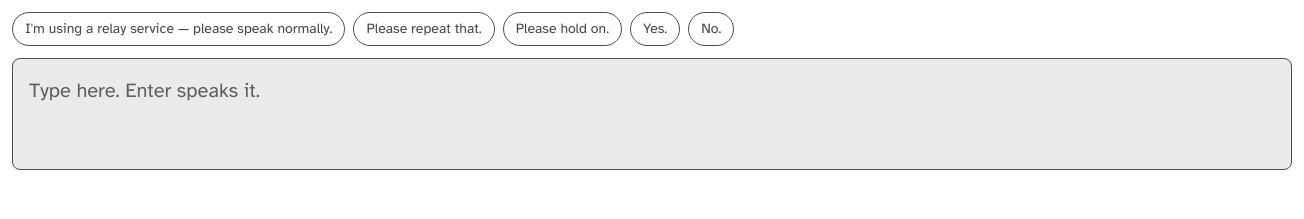
Scenario: Composer typo correction › reports a correction made on send without offering to undo it
This screenshot has width=1304, height=219.
Type "teh" into the text box named "type what you want said" at (652, 114), box [12, 58, 1292, 170]
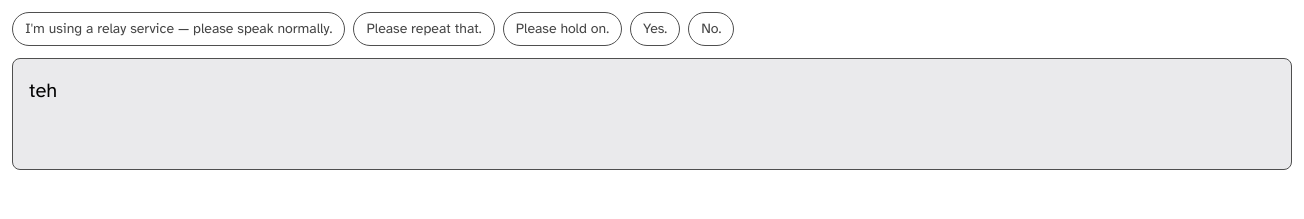
Press Enter in the text box named "type what you want said", box [12, 58, 1292, 170]
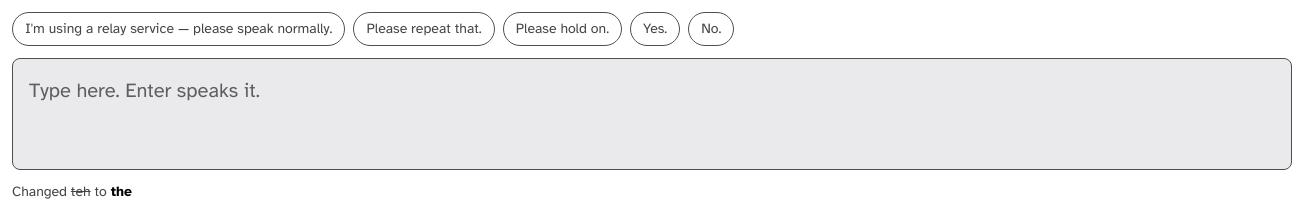
Now the text "Changed teh to the" is shown, box [12, 182, 132, 202]
